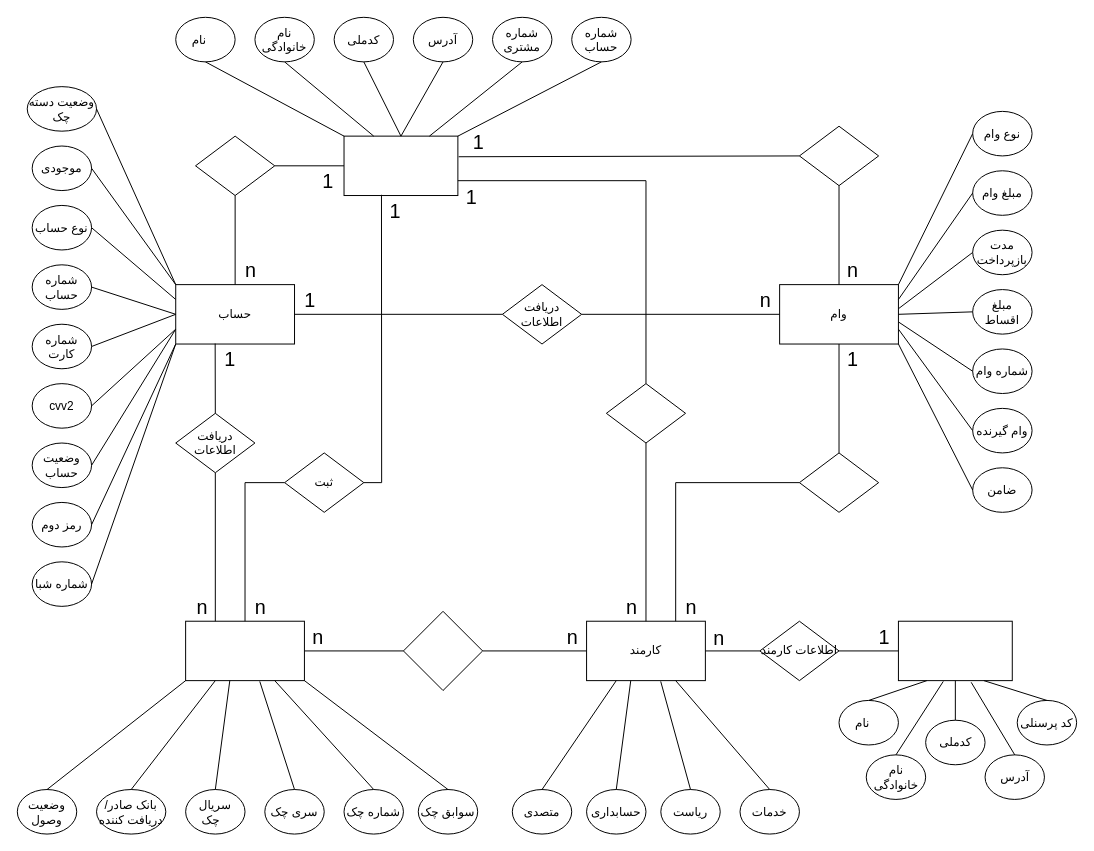
This 1094x851 diagram has some shape labels left out. The box of each missing label's shape, as (x1, y1, x2, y2) in pixels:
اظلاعات: (897, 620, 1012, 681)
افتتاح حساب: (605, 383, 686, 443)
بررسی: (402, 610, 483, 691)
درخواست: (798, 452, 879, 512)
دریافت/پرداخت: (798, 125, 879, 186)
مشتری: (343, 135, 458, 196)
مشخصات حساب: (195, 135, 275, 196)
چک: (185, 620, 304, 681)
